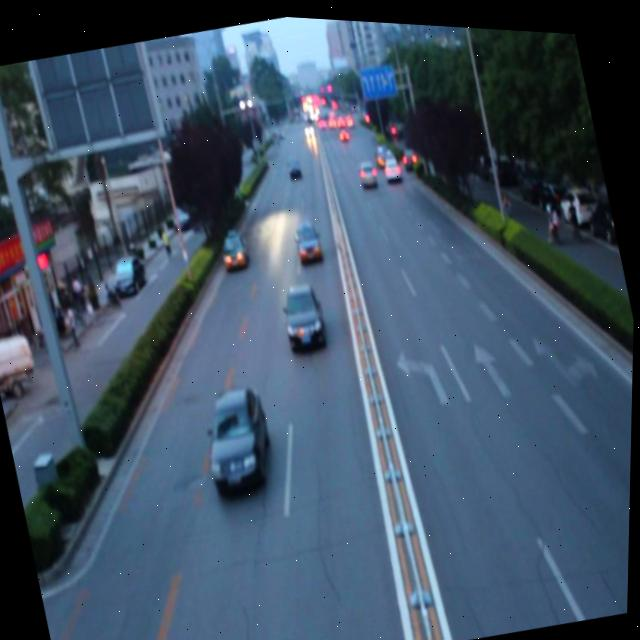car: (196, 376, 282, 491), (277, 274, 331, 349), (290, 213, 326, 263), (216, 222, 252, 271)
